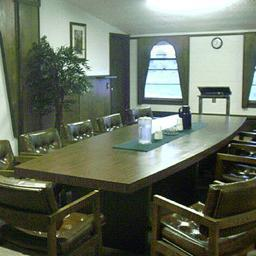Ventana: (139, 37, 187, 105)
